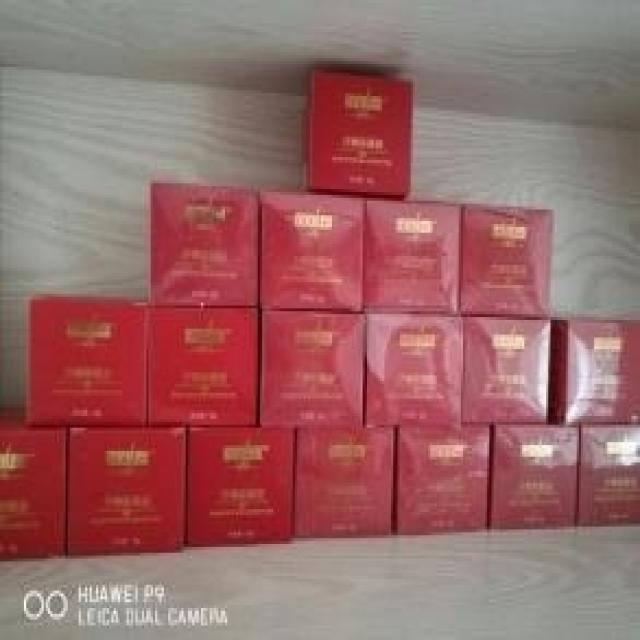box: (24, 294, 149, 428), (66, 428, 188, 559), (299, 70, 413, 198), (149, 180, 260, 308), (146, 305, 258, 425), (260, 189, 365, 311), (186, 428, 293, 547), (260, 308, 363, 425), (363, 195, 463, 314), (293, 425, 395, 538), (365, 314, 465, 425), (459, 204, 555, 317), (395, 422, 491, 535), (489, 422, 581, 529), (548, 317, 640, 422), (461, 317, 550, 422), (0, 431, 66, 561), (577, 425, 640, 527)
